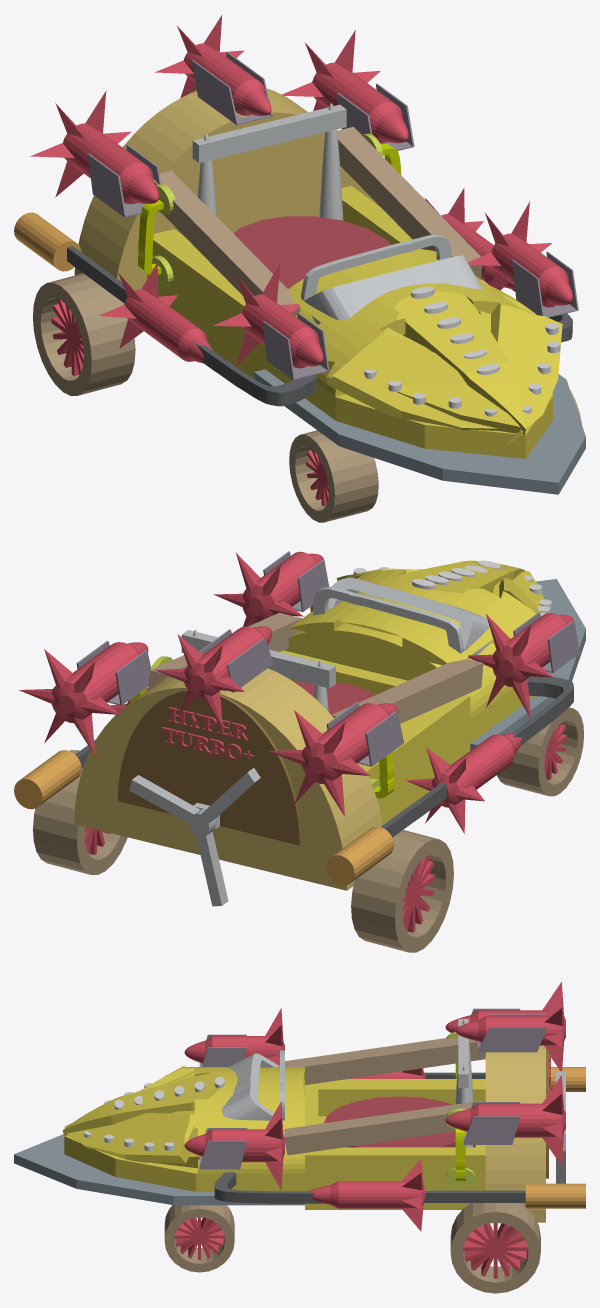
File: POGO-HyperTurboPlus.glb
The picture shows the model from 3 angles, top to bottom: view 1: azimuth 30°, elevation 25°; view 2: azimuth 150°, elevation 25°; view 3: azimuth 270°, elevation 25°; orthographic projection. The views are drawn at different scales.
Visible parts, largest first — view 1: Mesh_Mesh_head_geo.001_lambert2SG.001; view 2: Mesh_Mesh_head_geo.001_lambert2SG.001; view 3: Mesh_Mesh_head_geo.001_lambert2SG.001.
Boxes of the visible parts, bbox=[...] form: Mesh_Mesh_head_geo.001_lambert2SG.001: bbox=[14, 15, 585, 522]; Mesh_Mesh_head_geo.001_lambert2SG.001: bbox=[14, 551, 585, 952]; Mesh_Mesh_head_geo.001_lambert2SG.001: bbox=[14, 982, 585, 1293].
Bounding box in the file's own units: 34 × 25 × 57.
